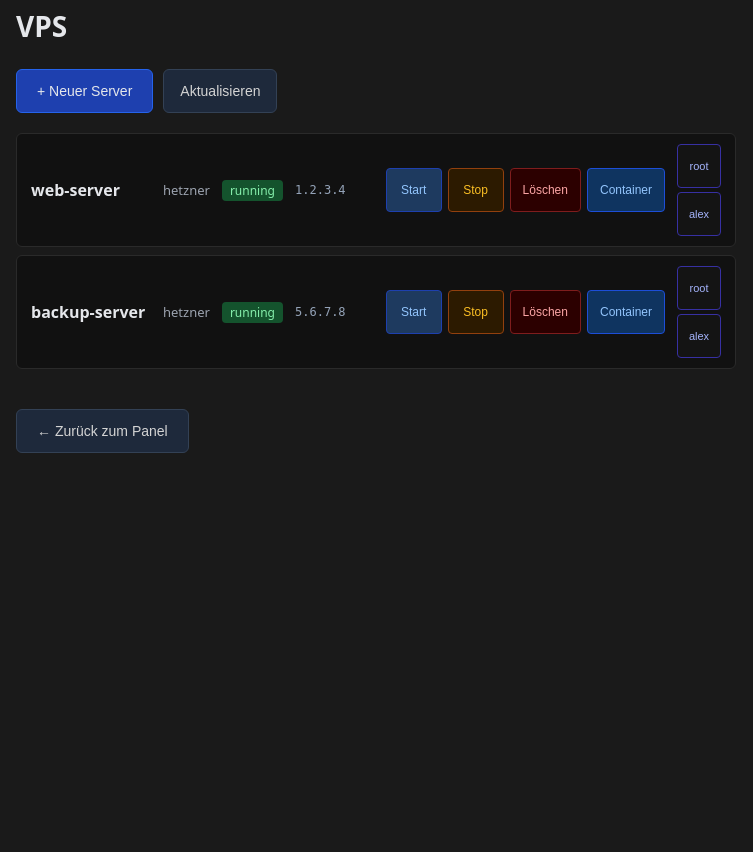
Test: VpsSshTerminal — AC2: Terminal-Fenster + Open-Handshake + Input-Relay › öffnet ein Terminal unter der angeklickten Karte mit korrekter WS-URL
Click the button with aria-label "SSH-Terminal als root für web-server öffnen" at coordinates (699, 166), box [677,144,721,188]
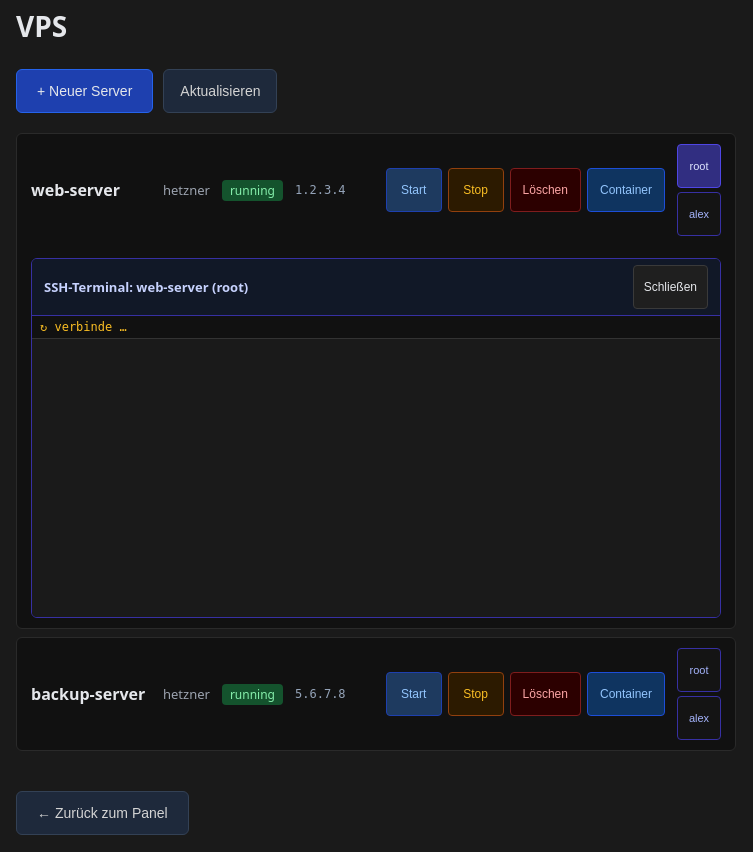
Check: the button with aria-label "SSH-Terminal (root) für web-server schließen" is shown, box [633,265,708,309]
